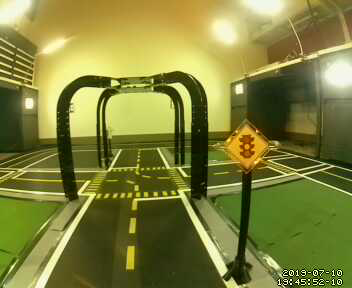Traffic light sign: (226, 122, 268, 170)
